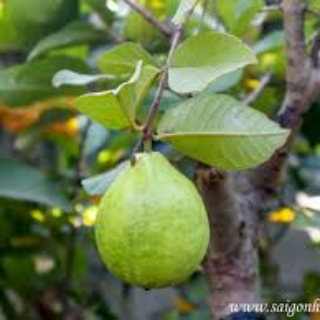oi: (88, 138, 218, 295)
